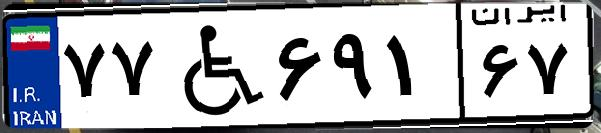1: (385, 28, 445, 110)
6: (270, 28, 330, 110), (475, 38, 525, 113)
7: (57, 26, 110, 100), (525, 38, 570, 115), (110, 28, 158, 98)
9: (330, 28, 385, 110)
ژ (معلولین و جانبازان): (158, 12, 270, 120)
